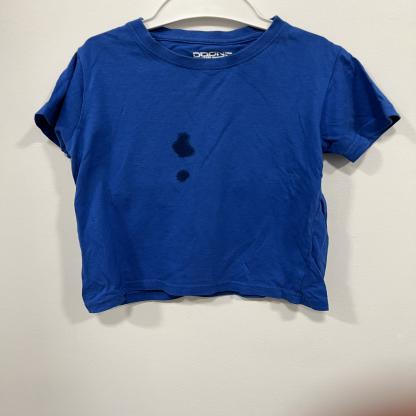stain: (168, 130, 198, 160), (172, 167, 194, 185)
